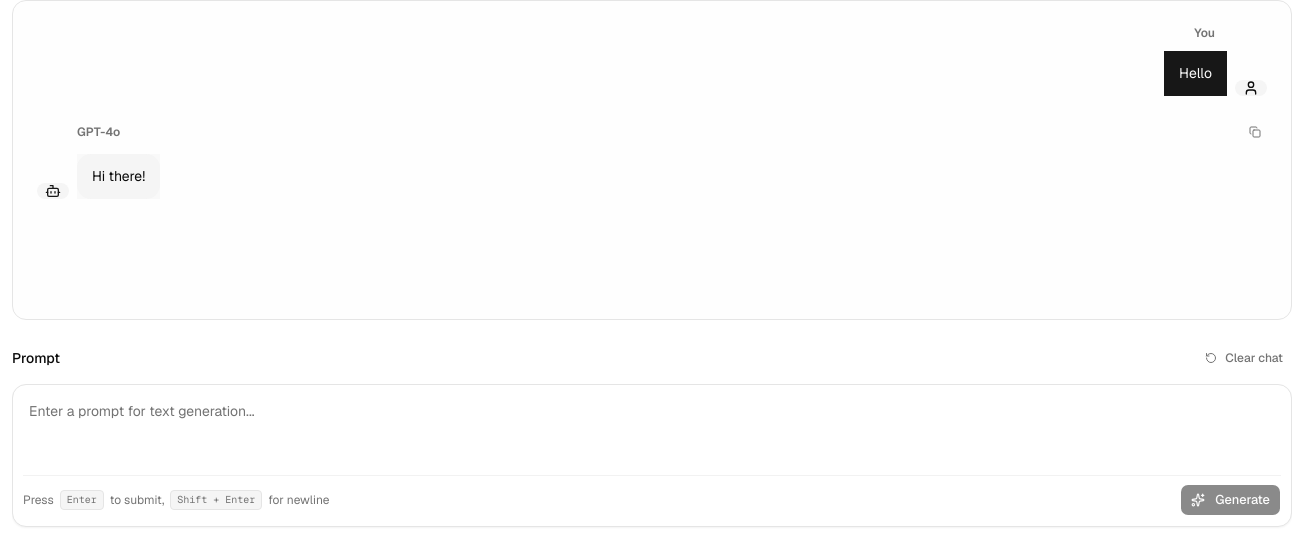
Test: TextWorkspace › clears chat messages when Clear chat is clicked
Check: the text "Hello" is shown, box [1179,64,1212,82]
Check: the text "Hi there!" is shown, box [92,167,145,185]
Click the button "Clear chat". click: (1244, 358)
box: [1196,344,1292,372]
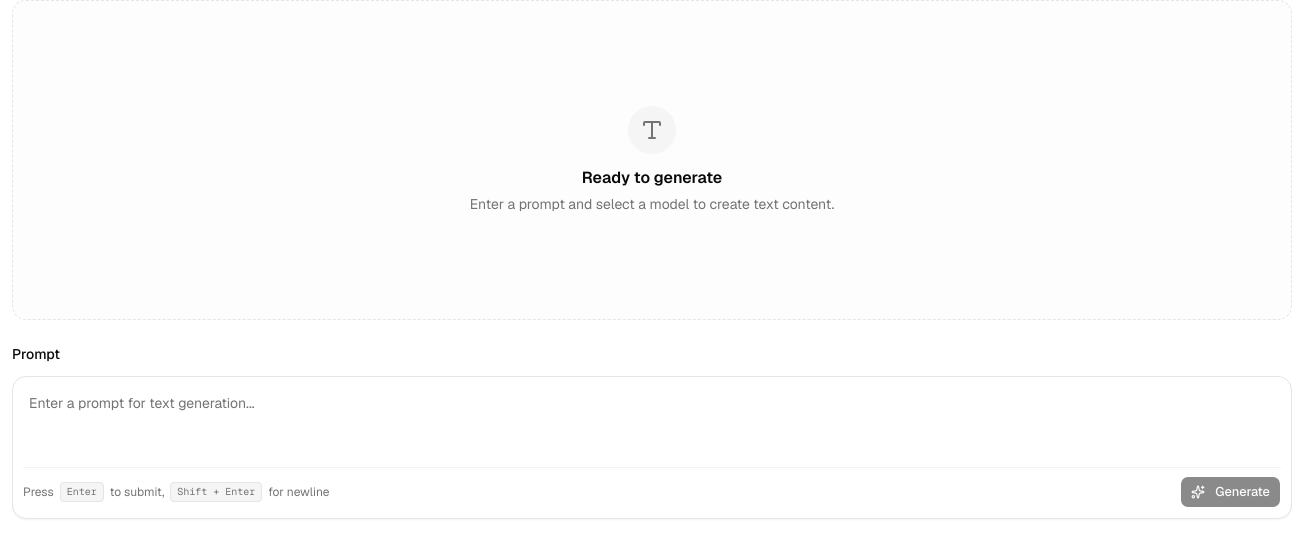
Check: the heading "Ready to generate" is shown, box [582,166,722,190]
Check: the text "Hello" is gone
